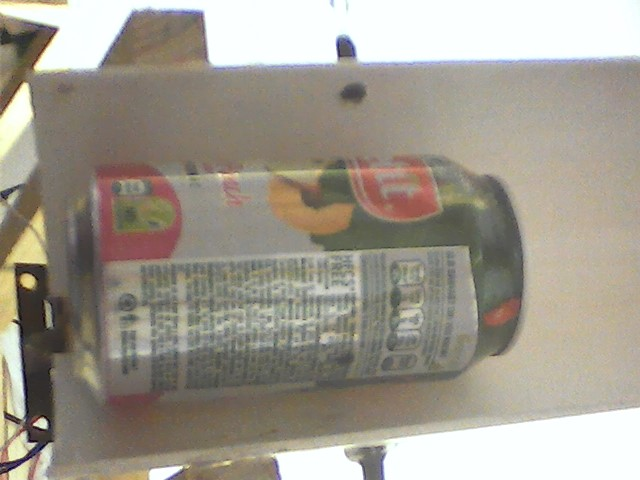lata: (58, 145, 531, 409)
